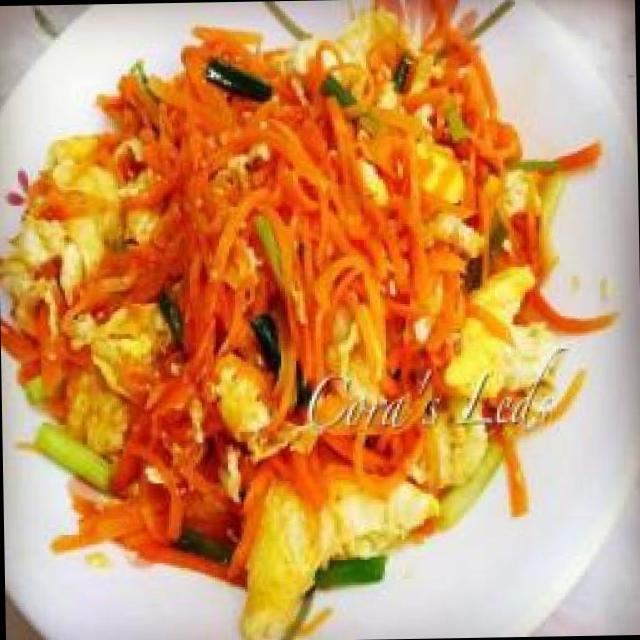carrot_eggs: (9, 42, 542, 546)
